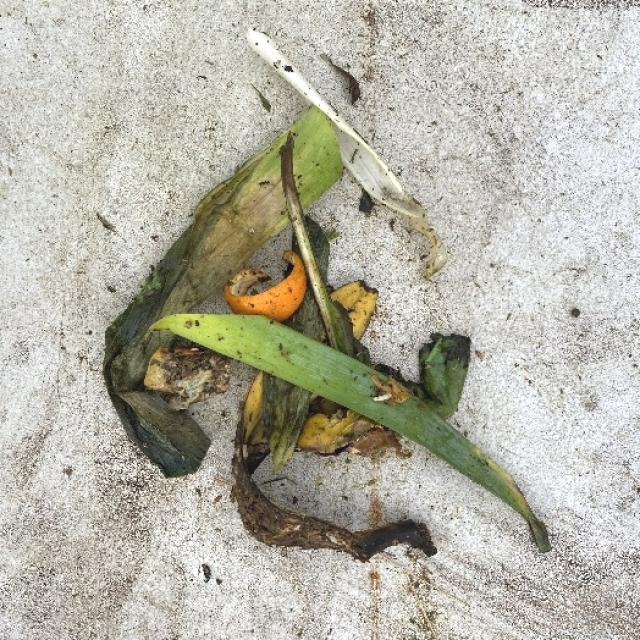wet: (114, 118, 448, 533)
